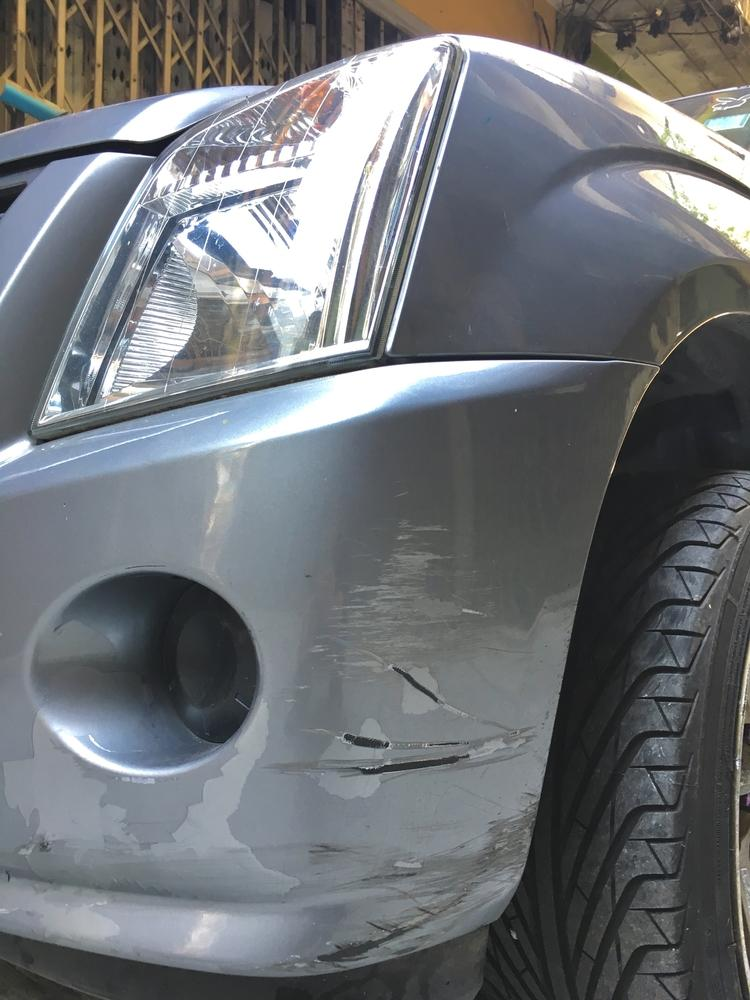scratch: (269, 497, 545, 982)
